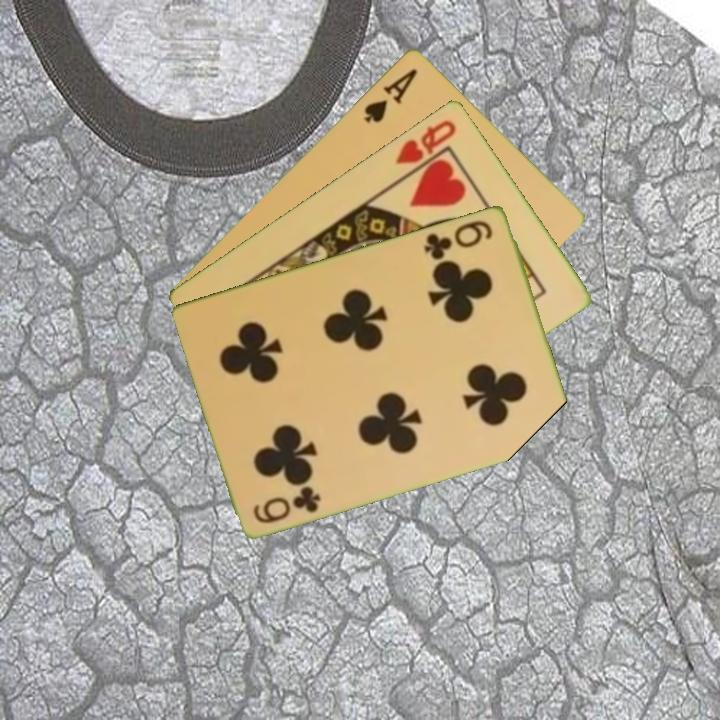6c: (420, 216, 496, 262), (250, 482, 324, 526)
As: (360, 64, 421, 126)
Qh: (392, 115, 460, 167)
